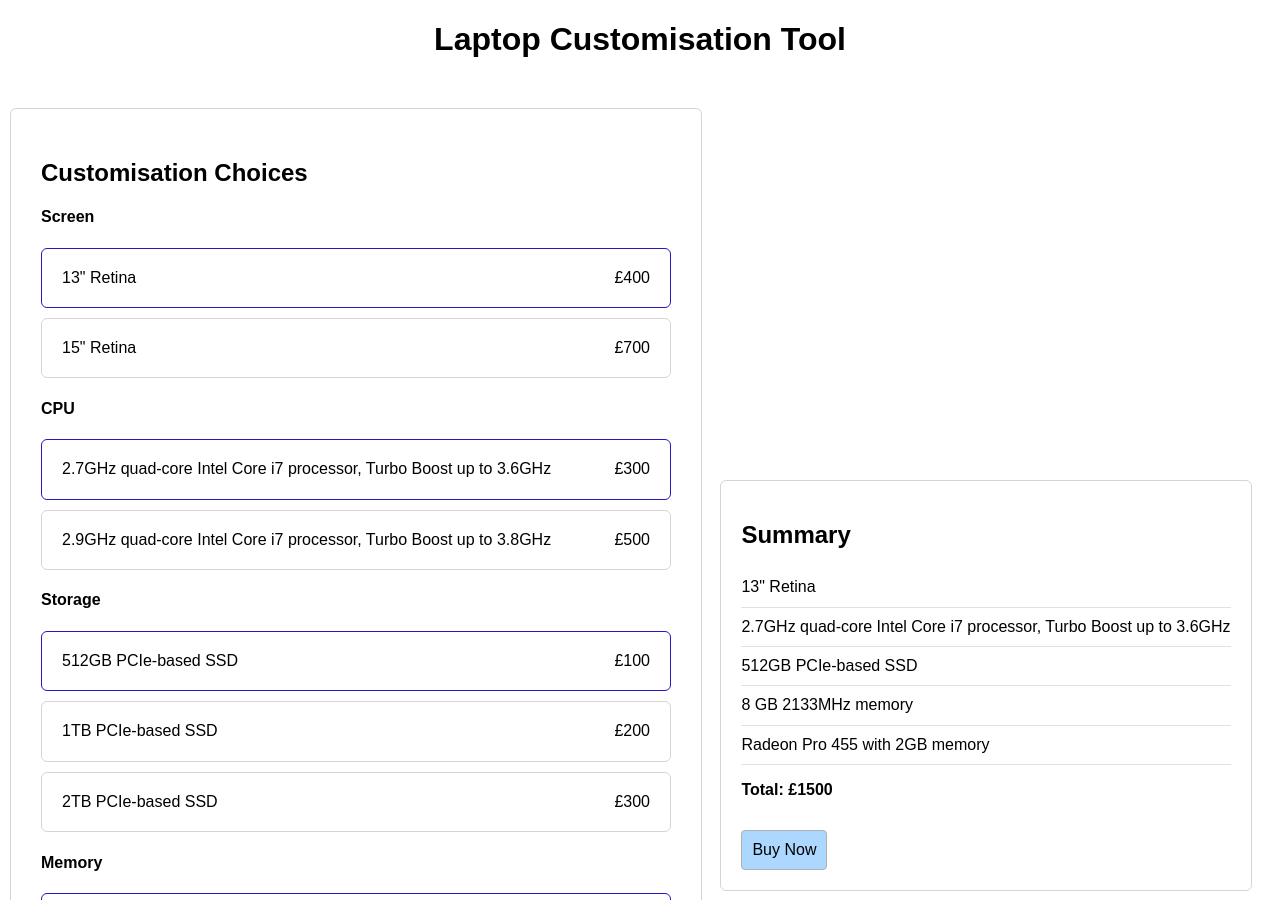
Test case: Home page › Item selected reflects the summary › storage
Click the option "1TB PCIe-based SSD £200".
click(140, 731)  # box [62, 722, 650, 740]
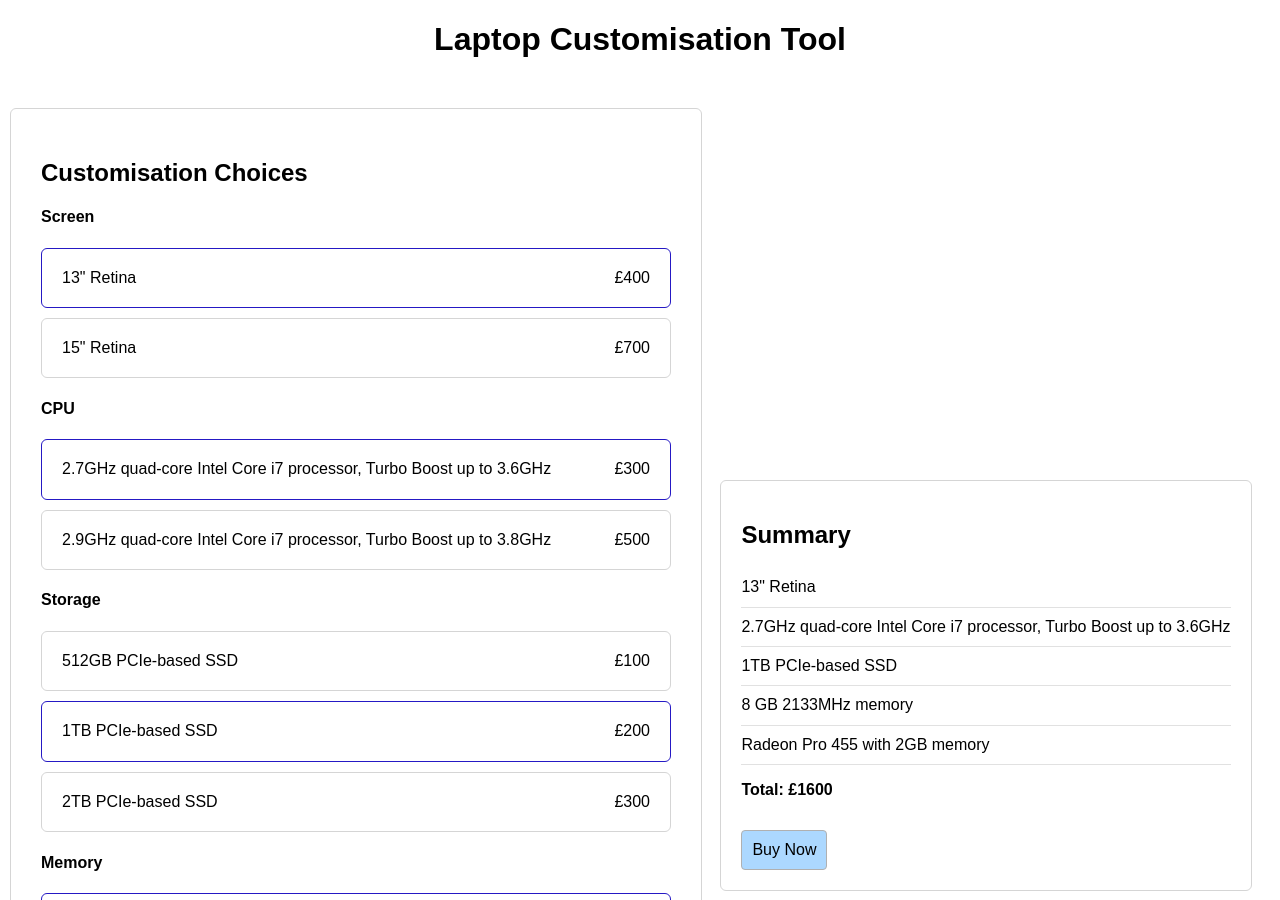
Expected: the element with test id "spec-summary" is shown, [720, 480, 1252, 891]
Expected: the list item "1TB PCIe-based SSD" is shown, [741, 647, 1230, 686]
